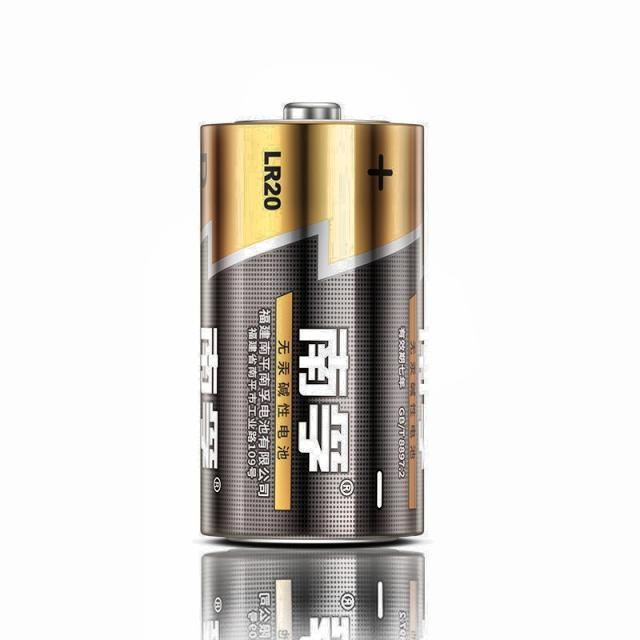battery: (200, 106, 424, 542)
